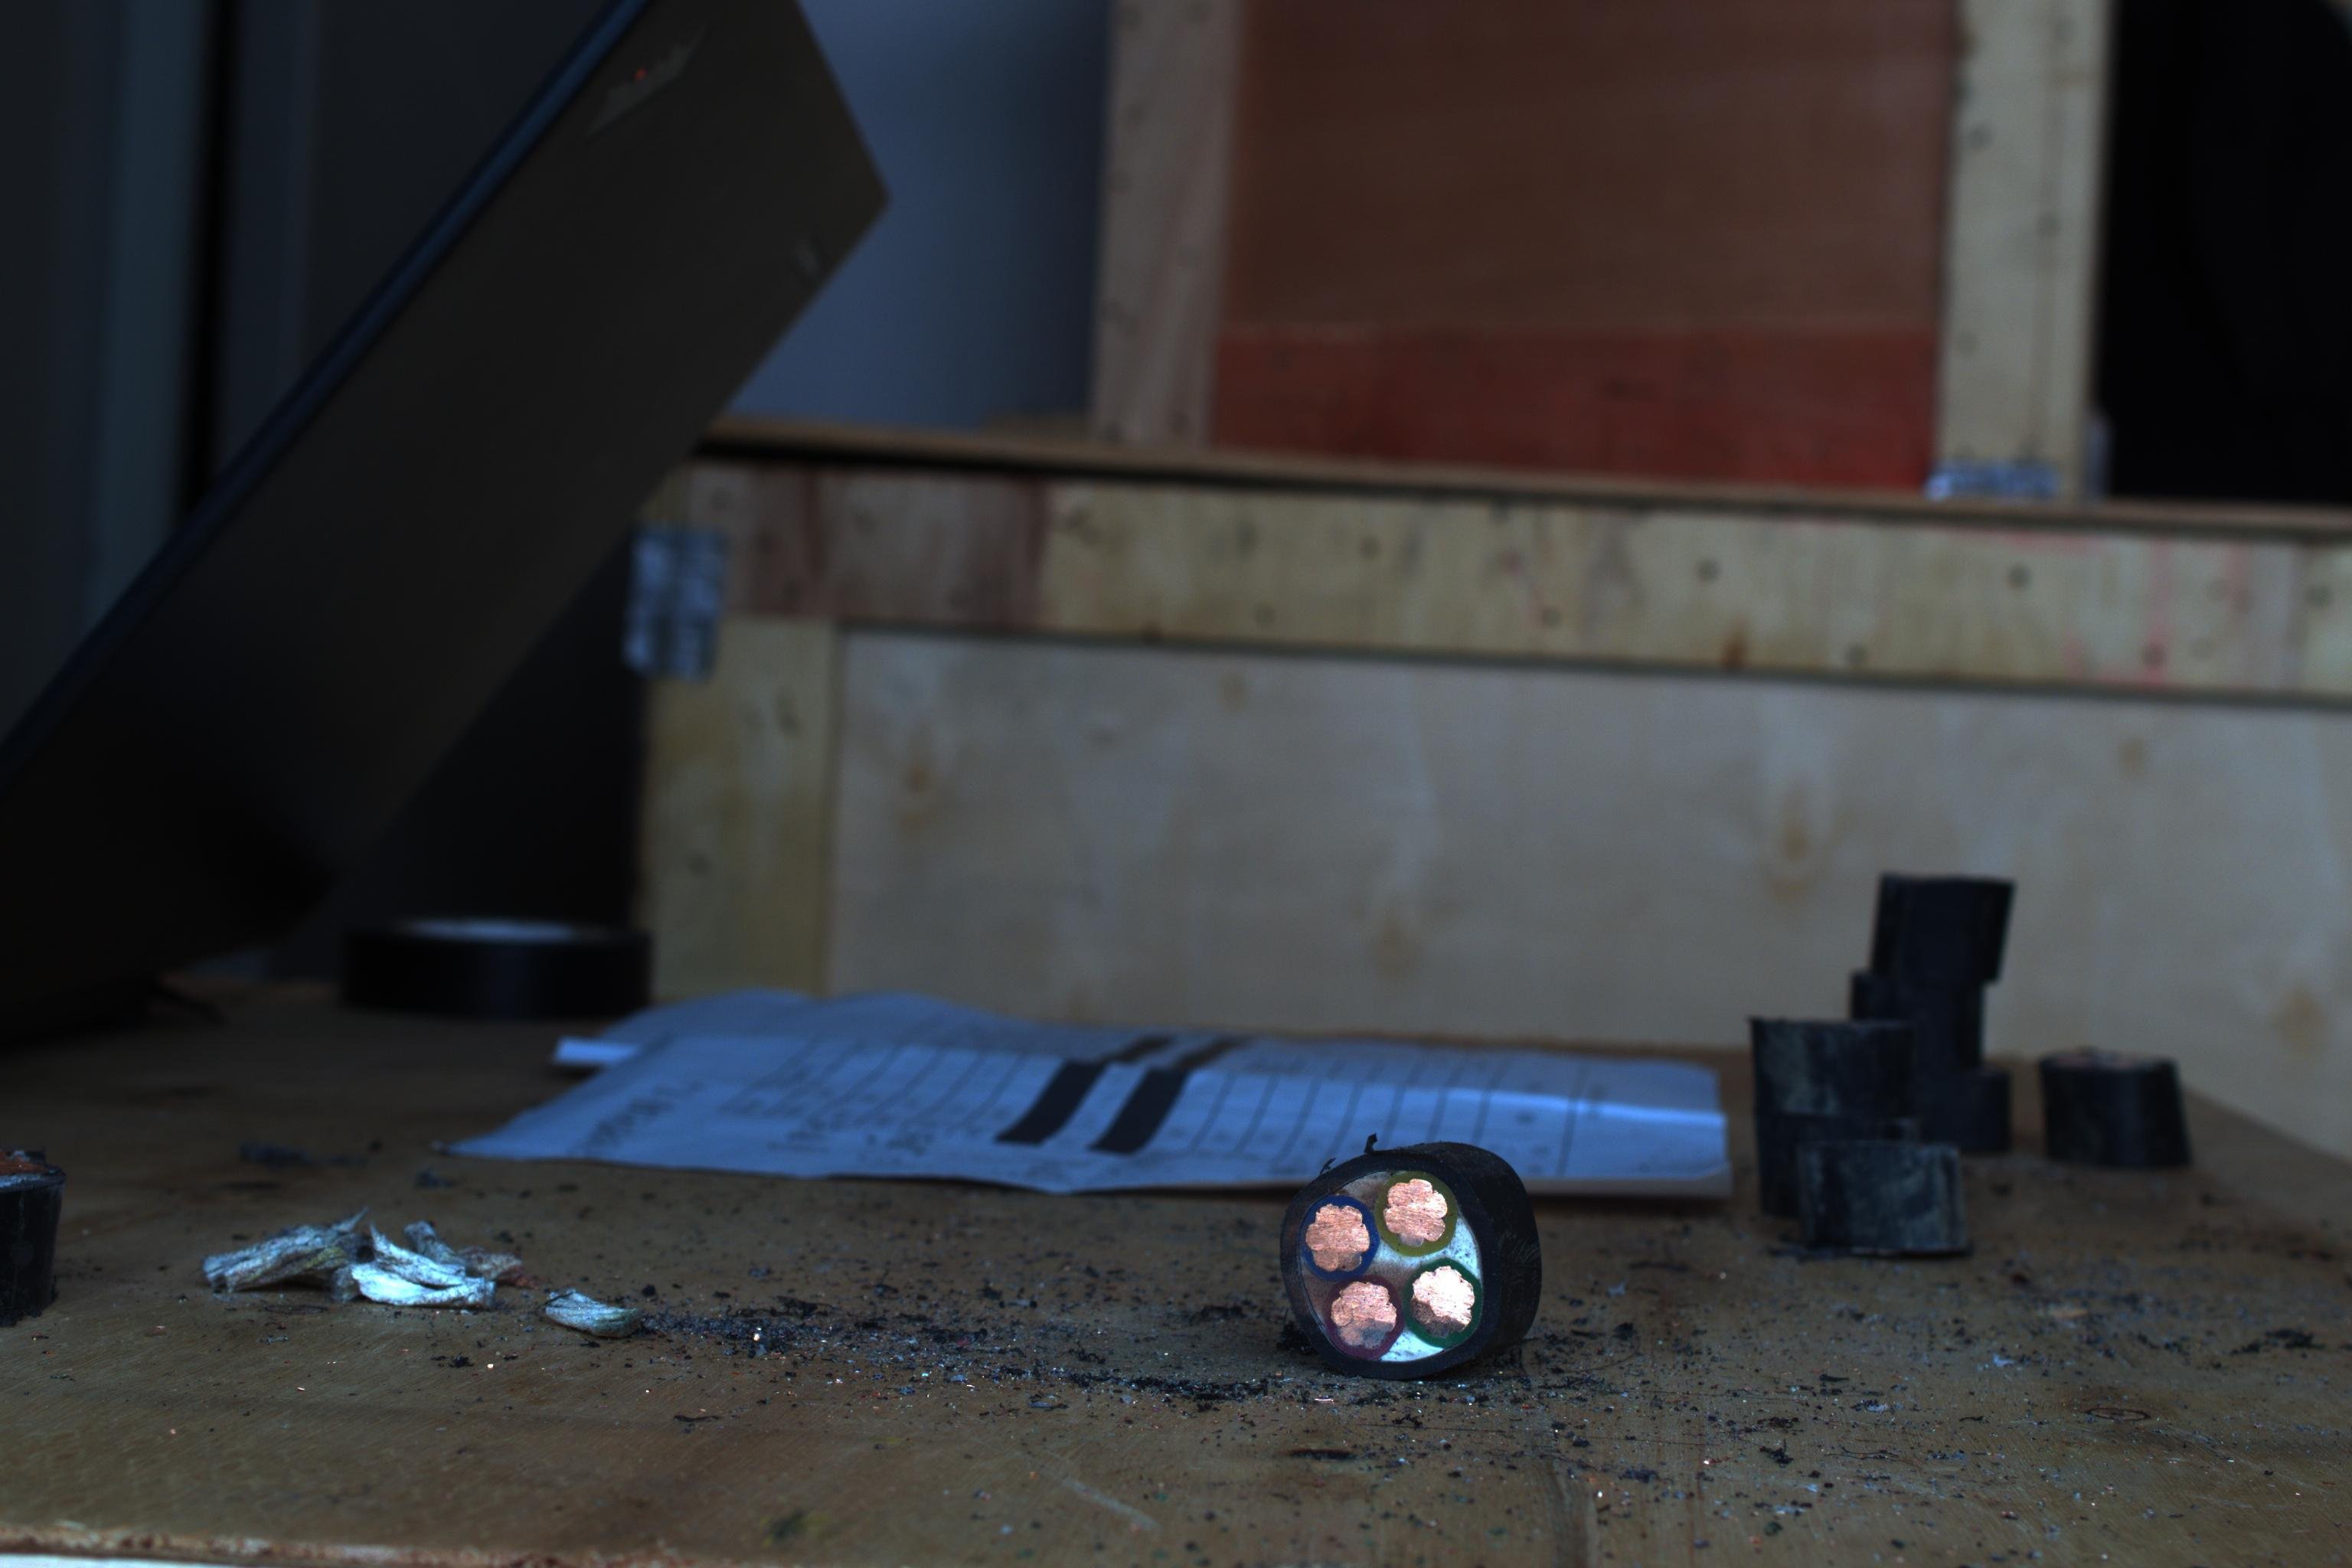YJV_0.6_1kV_4x35: (1269, 1141, 1528, 1370)
